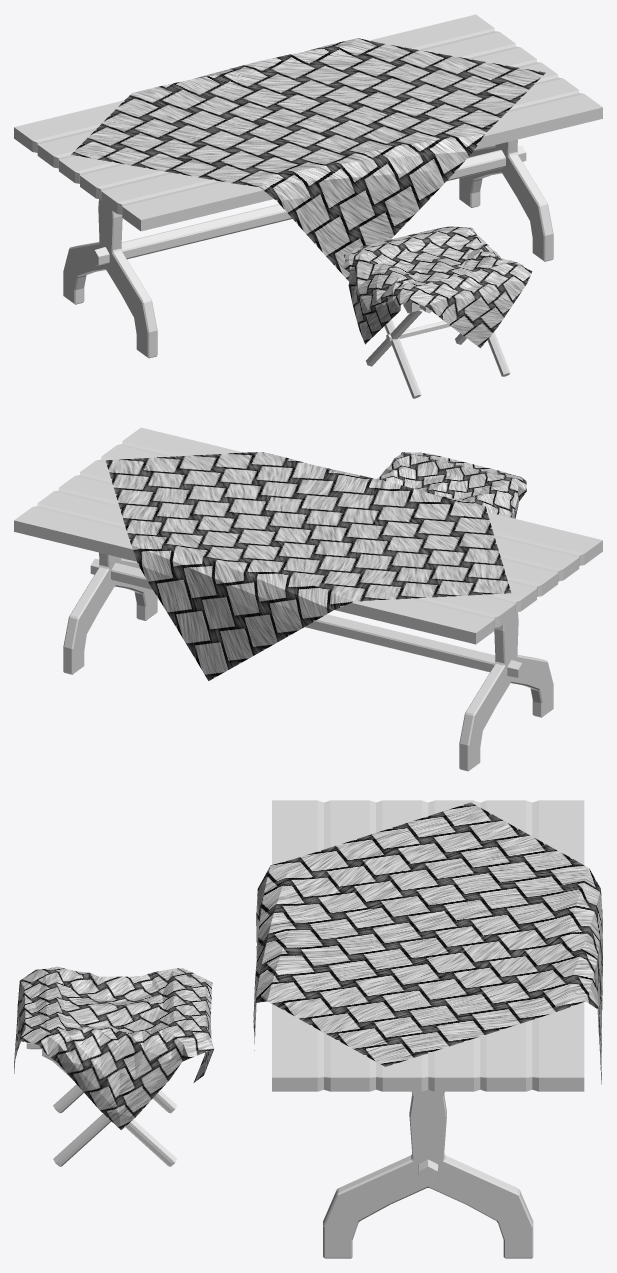
File: chair_table.fbx
3 views of the same model, one above another, from view 1: azimuth 30°, elevation 25°; view 2: azimuth 150°, elevation 25°; view 3: azimuth 270°, elevation 25° (orthographic). The views are drawn at different scales.
Parts seen in each view (by area): view 1: Table, Chair; view 2: Table, Chair; view 3: Table, Chair.
Boxes of the visible parts, x1,y1,x2,y2 form: Table: (14, 14, 602, 358); Chair: (342, 226, 532, 398); Table: (14, 427, 602, 771); Chair: (376, 452, 526, 518); Table: (253, 800, 602, 1258); Chair: (14, 966, 213, 1166).
Size of the model in its own units: 420 by 147 by 377.
